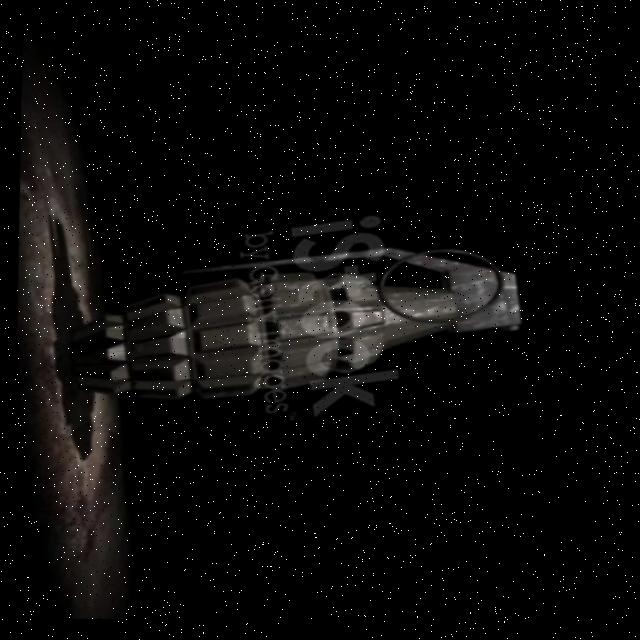grenade: (41, 200, 542, 450)
